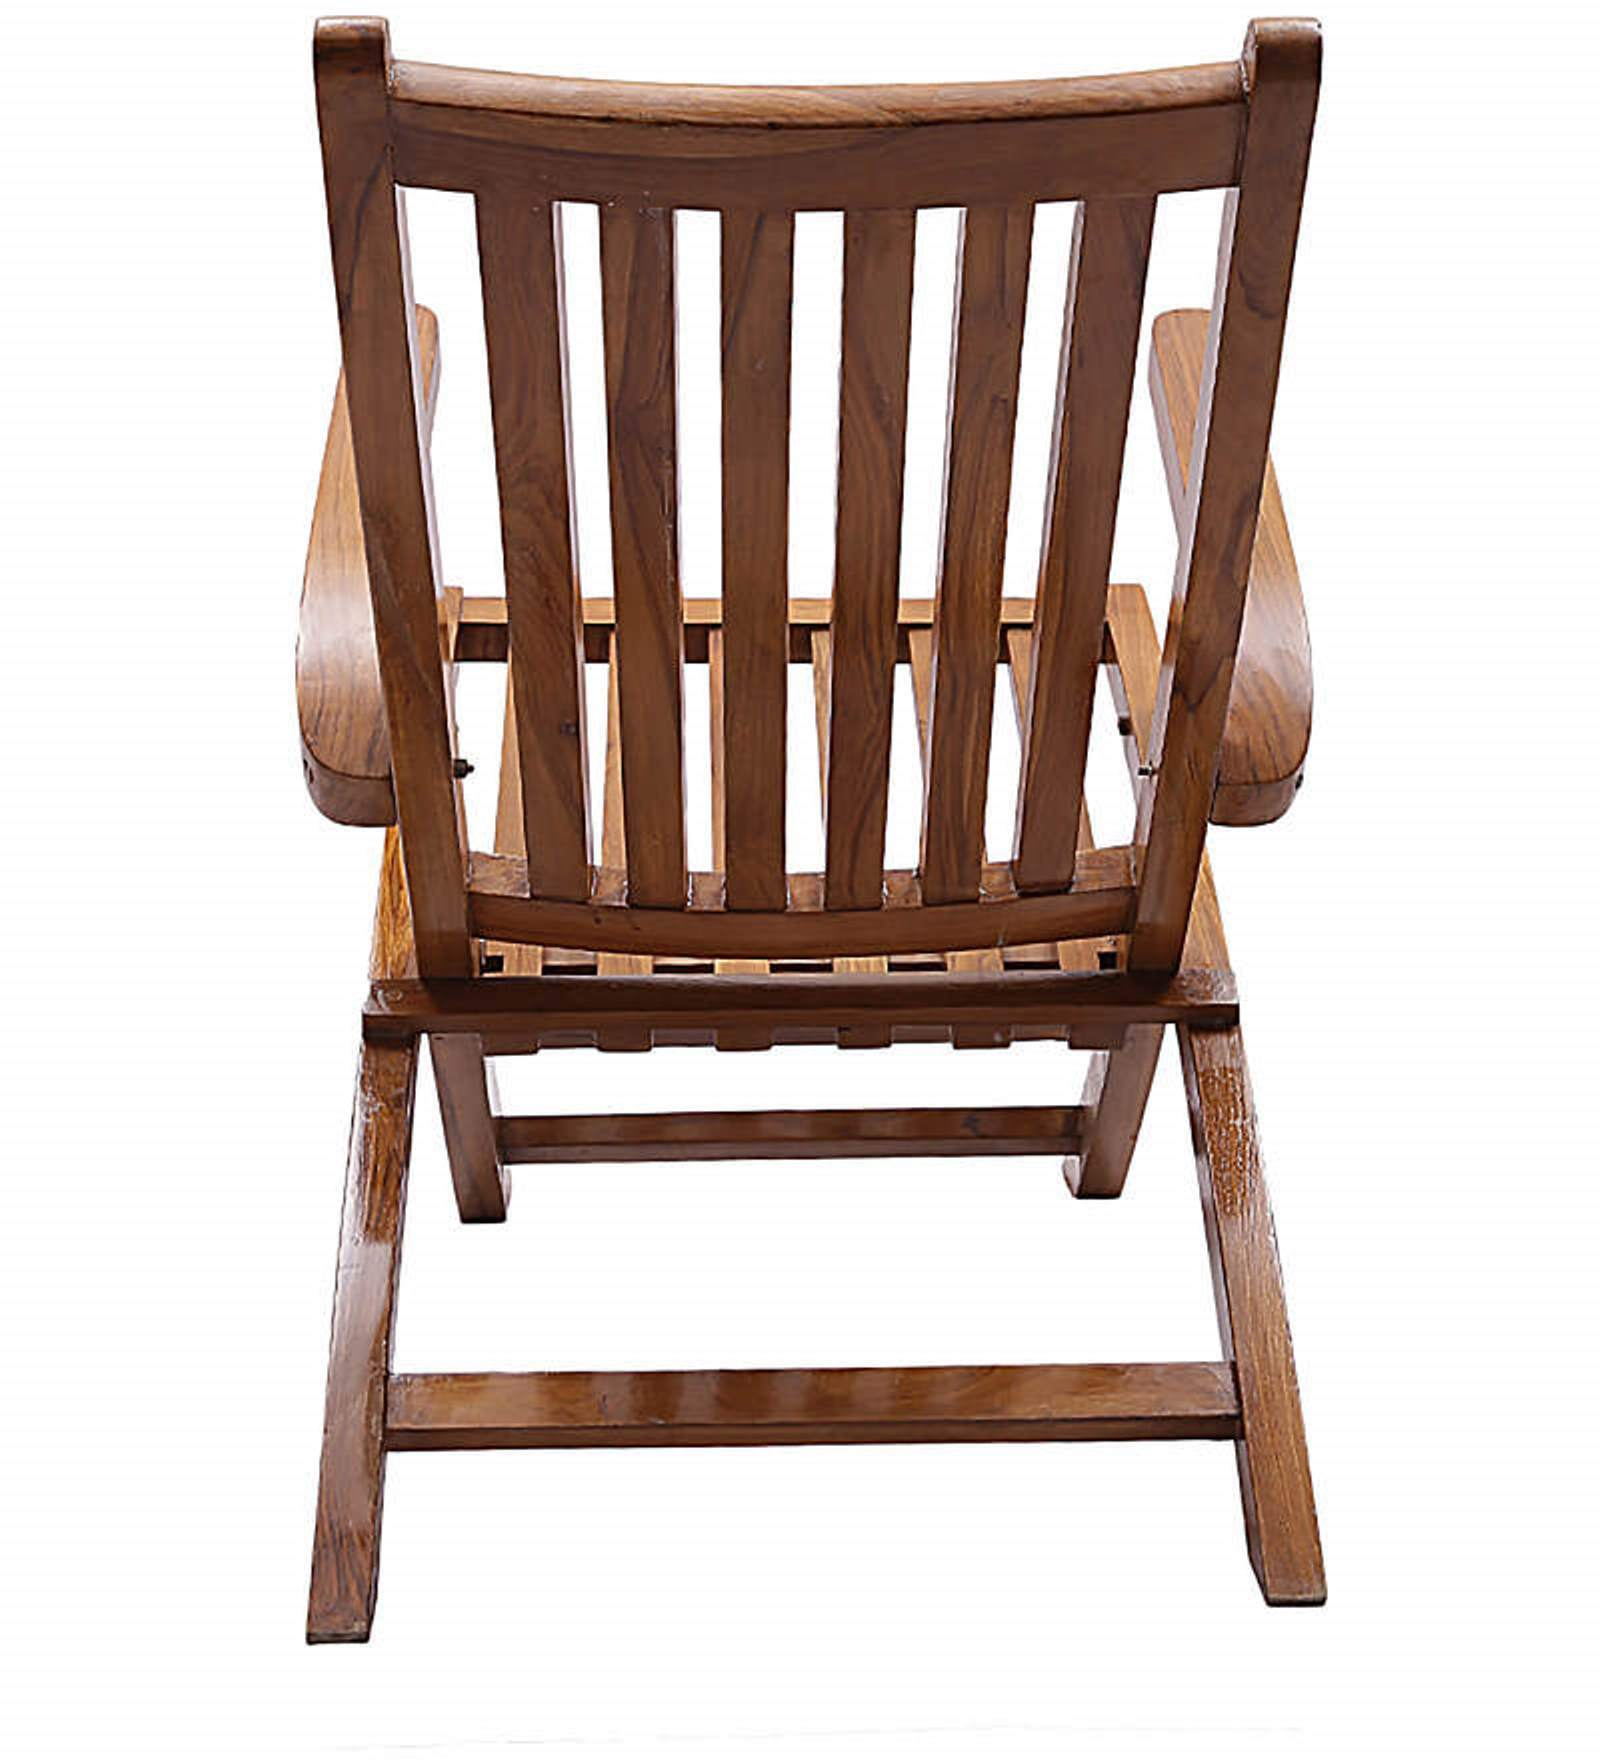Omak Teak Wood Folding Chair in Natural Teak Finish by Finesse: (254, 12, 1366, 1648)
